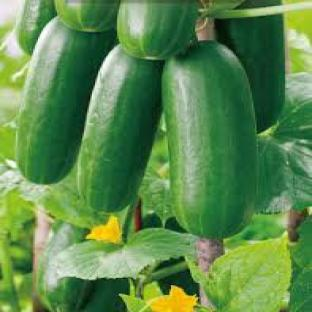Cucumber: (164, 42, 256, 238), (16, 19, 115, 184), (78, 46, 163, 212), (216, 16, 285, 131), (37, 224, 90, 311), (80, 280, 129, 311), (159, 270, 199, 294)
